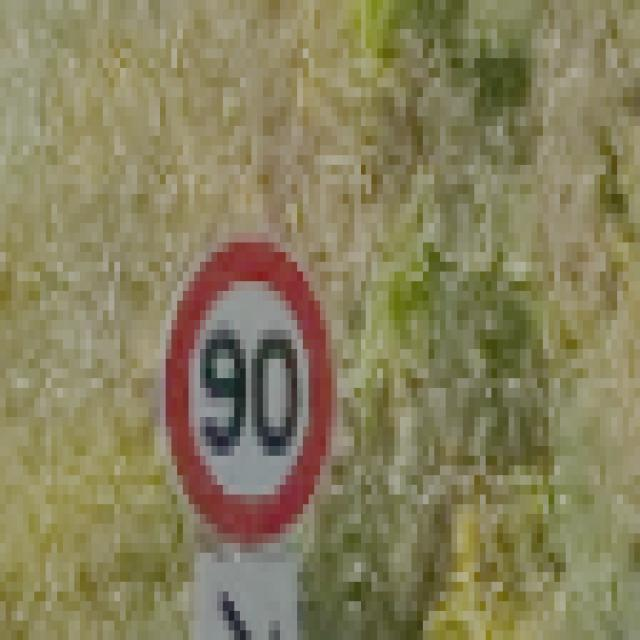speed_90: (159, 232, 340, 554)
